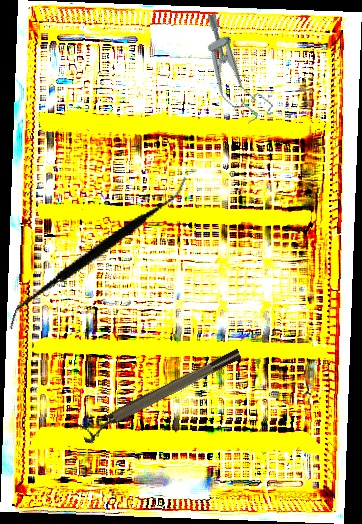Fixation Ring: (76, 345, 247, 446)
Spatula Surgical: (8, 136, 189, 370)
Speculum: (185, 8, 277, 132)
